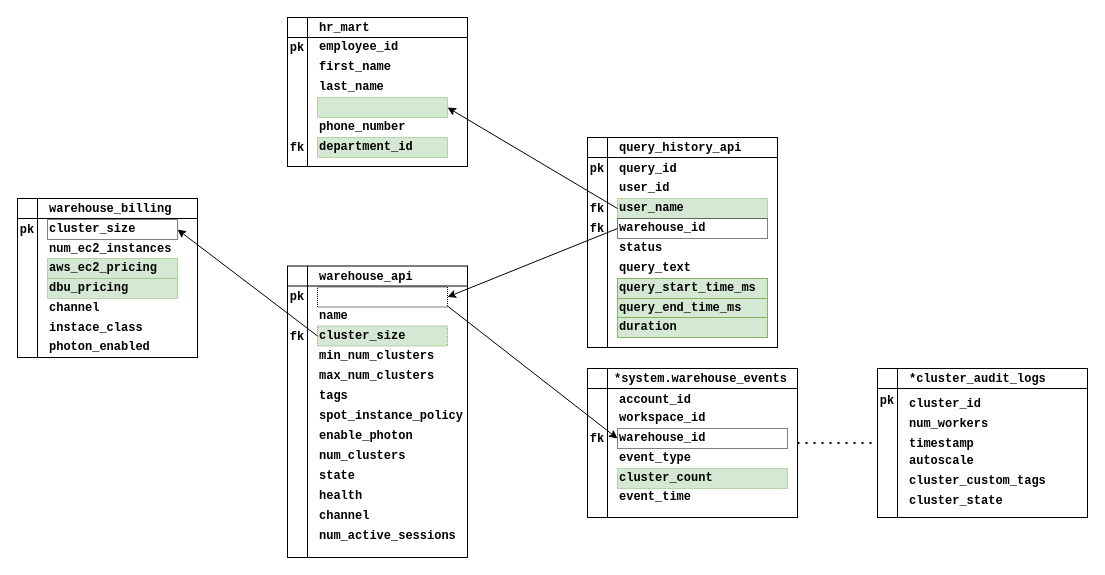
The diagram is 1105 pixels wide and 575 high, and some of its shapes have lost their labels. The shapes that lost their labels are listed below. From the top down, each one's box as (x1, y1, x2, y2) in pixels, then its label:
(316, 96, 448, 118): email_id
(316, 286, 448, 307): id
